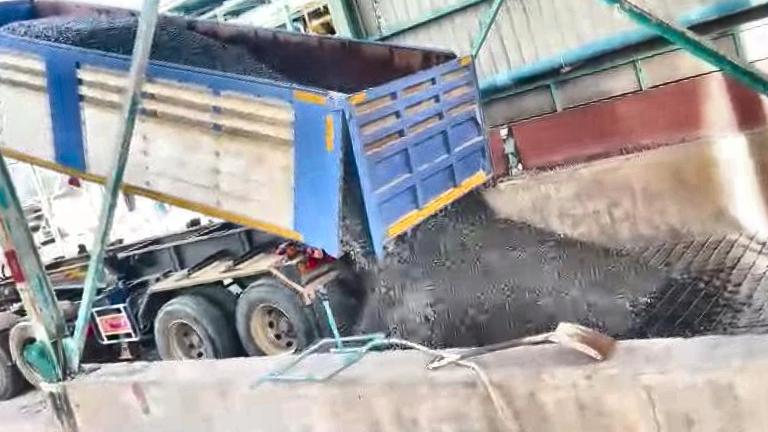gravel: (342, 156, 672, 346), (152, 17, 287, 80), (0, 16, 137, 55)
